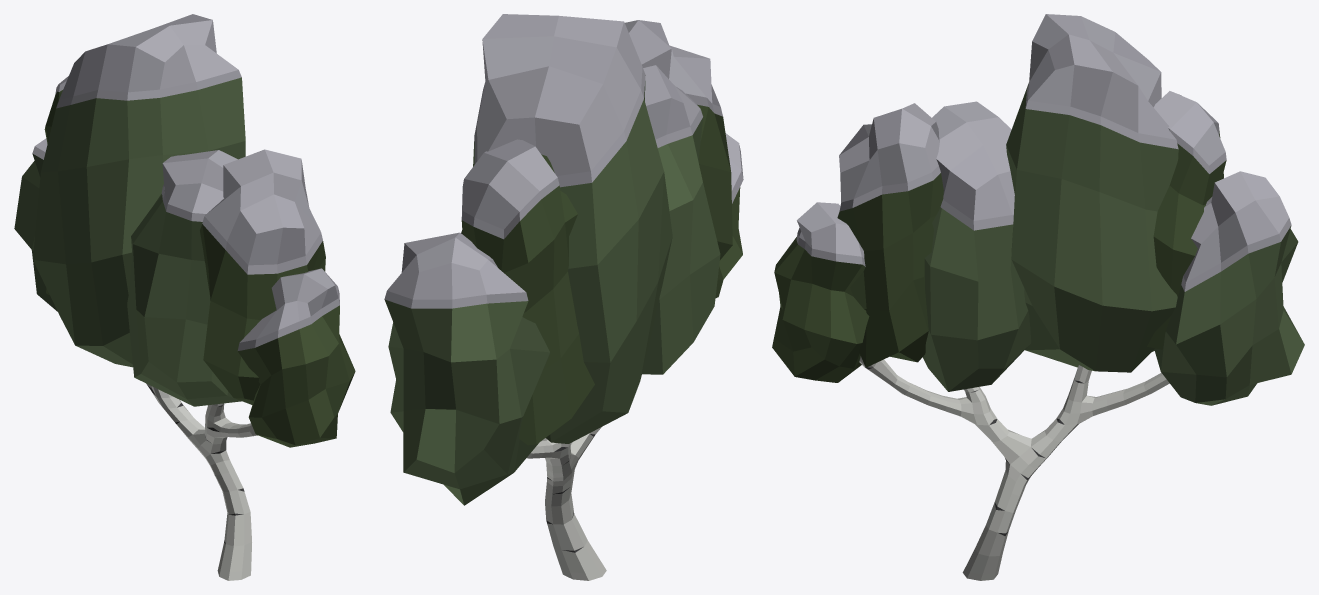
The model's file is quaternius-nature-birch-tree-snow-4.glb.
The picture shows the model from 3 angles, left to right: view 1: azimuth 30°, elevation 25°; view 2: azimuth 150°, elevation 25°; view 3: azimuth 270°, elevation 25°; orthographic projection. The views are drawn at different scales.
Visible parts, largest first — view 1: BirchTree_Snow_4; view 2: BirchTree_Snow_4; view 3: BirchTree_Snow_4.
Part boxes in pixels (<box>): BirchTree_Snow_4: <box>14,14,355,580</box>; BirchTree_Snow_4: <box>384,14,743,580</box>; BirchTree_Snow_4: <box>772,14,1304,580</box>.
Size of the model in its own units: 1.15 by 3.6 by 3.29.
1 material, 1 textured.
